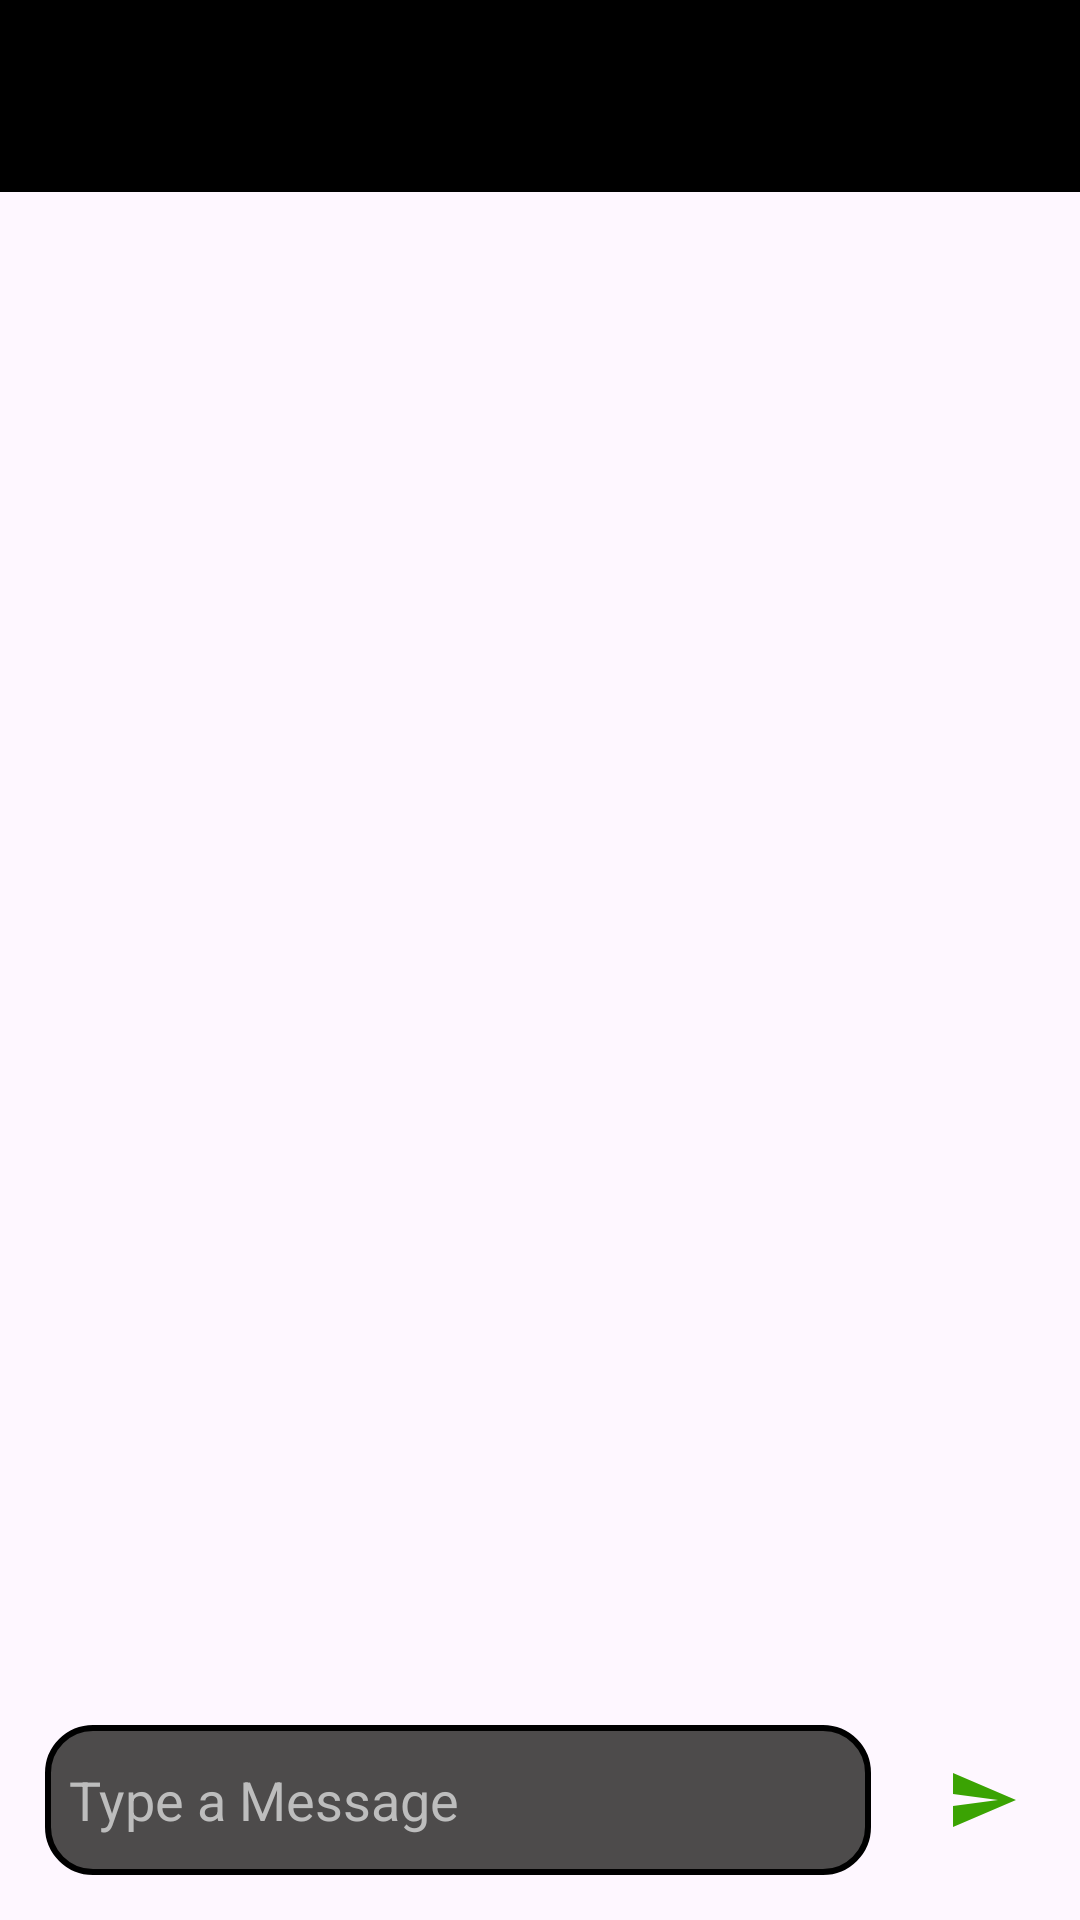

Icon bounding boxes for this 1080x1920 phone screenshot, format (x1, y1, x2, y2):
Send button: (953, 1773, 1016, 1827)
